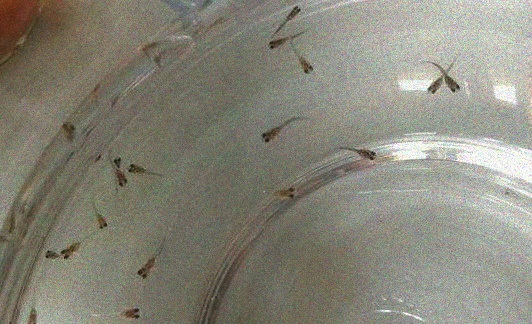fry: (122, 238, 167, 281), (254, 116, 303, 147), (286, 43, 319, 80), (95, 301, 153, 321), (342, 138, 385, 164), (57, 235, 95, 264), (125, 158, 159, 187), (87, 202, 111, 240), (264, 30, 298, 55), (110, 158, 130, 200), (277, 1, 305, 30), (22, 295, 45, 324), (424, 69, 445, 99), (446, 64, 465, 96), (40, 244, 63, 268), (273, 185, 301, 204)
